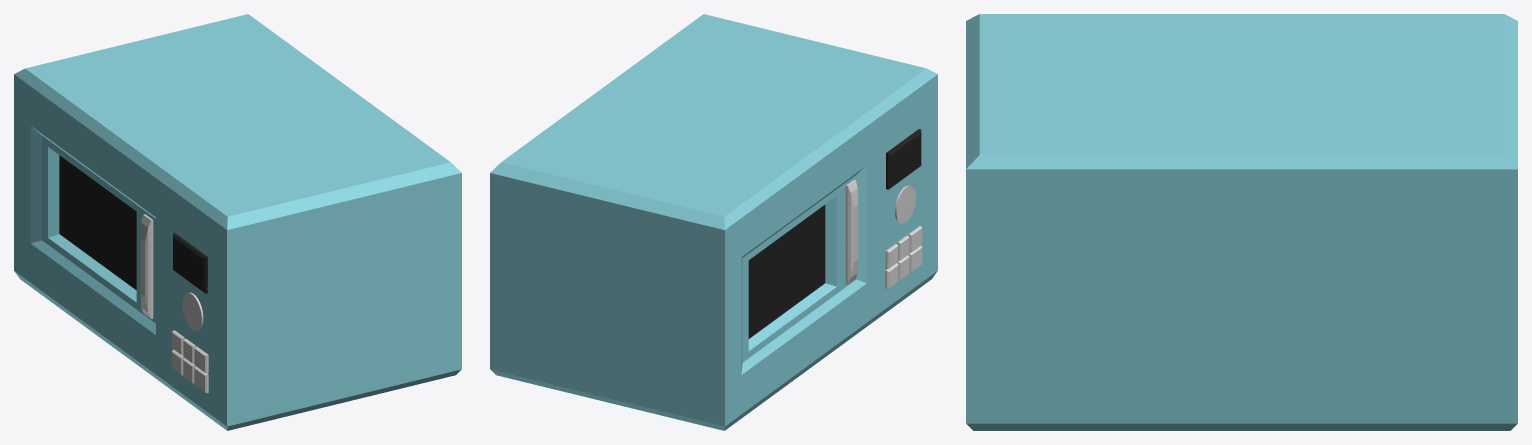
File: microwave.fbx
3 views of the same model, side by side, from view 1: azimuth 30°, elevation 25°; view 2: azimuth 150°, elevation 25°; view 3: azimuth 270°, elevation 25° (orthographic). The views are drawn at different scales.
Visible parts, largest first — view 1: Plane.001; view 2: Plane.001; view 3: Plane.001.
Part boxes in pixels (bbox=[...]): Plane.001: bbox=[14, 14, 461, 430]; Plane.001: bbox=[490, 14, 937, 430]; Plane.001: bbox=[966, 14, 1517, 430].
Bounding box in the file's own units: 29.11 × 25.08 × 44.98.
1 material, 1 textured.
